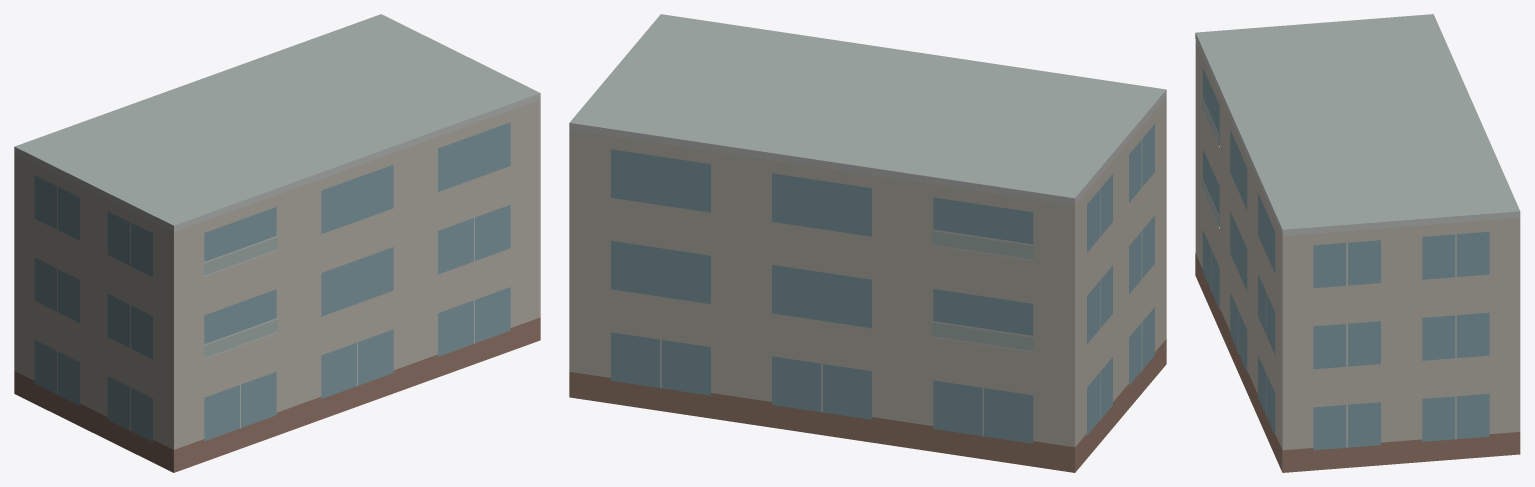
The model's file is survey-upis-32706521.glb.
The picture shows the model from 3 angles, left to right: view 1: azimuth 30°, elevation 25°; view 2: azimuth 150°, elevation 25°; view 3: azimuth 270°, elevation 25°; orthographic projection. The views are drawn at different scales.
Parts seen in each view (by area): view 1: survey-upis-32706521.tmp; view 2: survey-upis-32706521.tmp; view 3: survey-upis-32706521.tmp.
Part boxes in pixels (x1,y1,x2,y2): survey-upis-32706521.tmp: (14, 14, 540, 472); survey-upis-32706521.tmp: (569, 14, 1166, 472); survey-upis-32706521.tmp: (1195, 14, 1520, 472).
Size of the model in its own units: 17.43 by 9.15 by 11.09.
